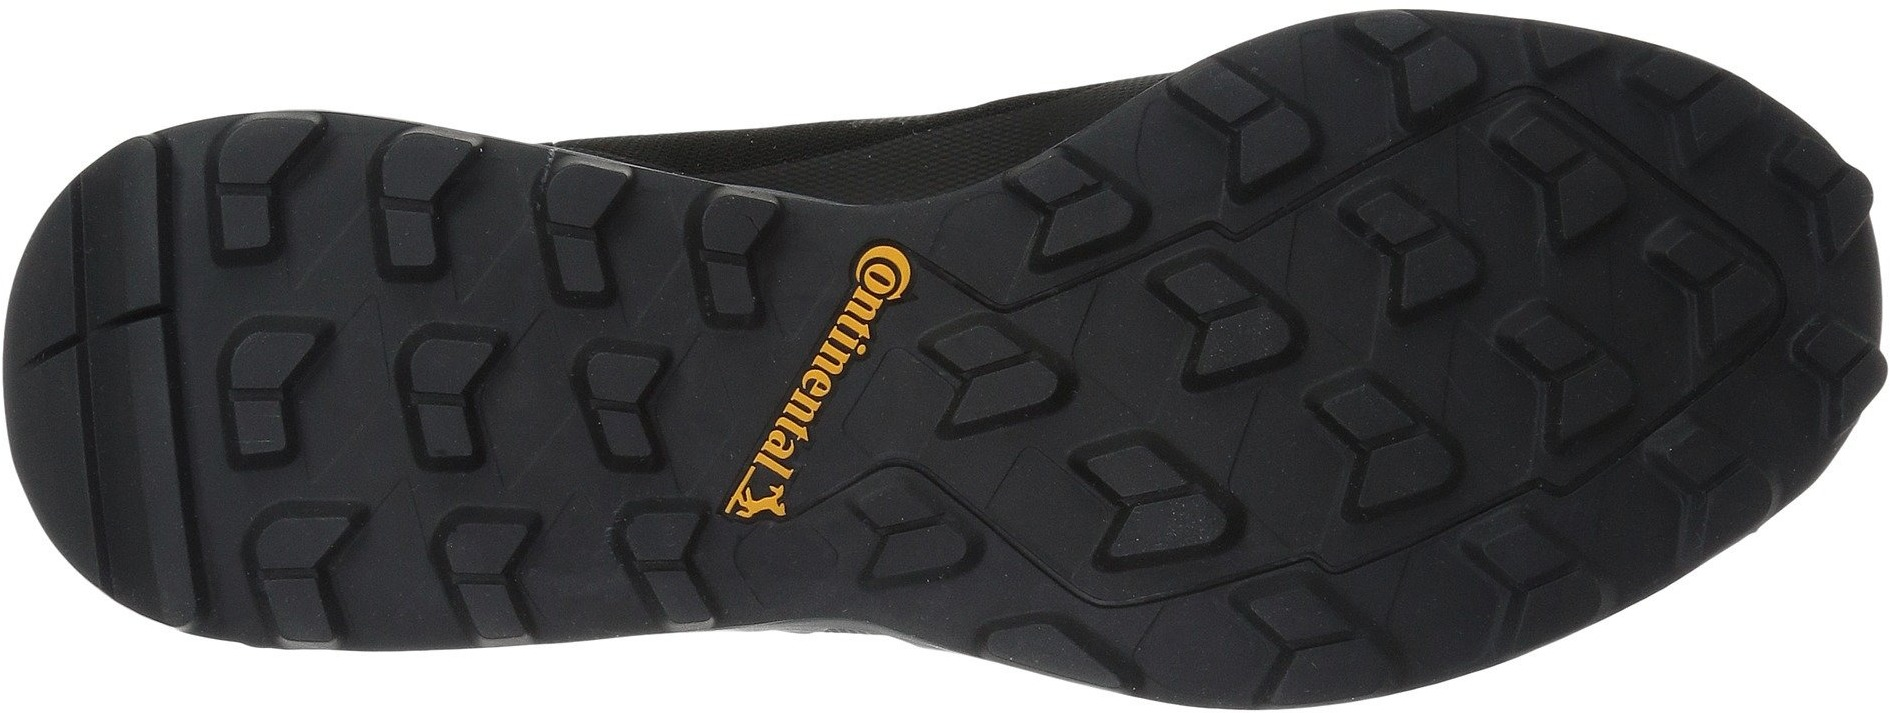chevron: (211, 175, 705, 626), (829, 441, 1006, 613), (658, 198, 809, 335)
line: (16, 279, 168, 424), (49, 428, 175, 541)
quad: (211, 175, 705, 626), (658, 198, 809, 335)
